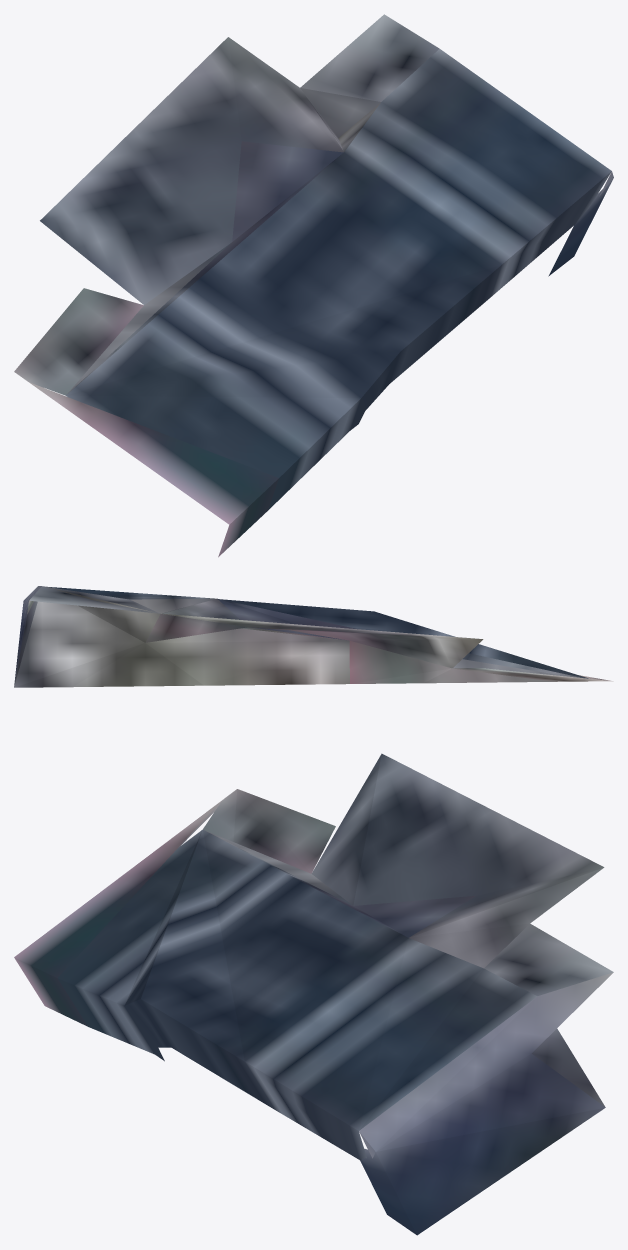
The picture shows the model from 3 angles, top to bottom: view 1: azimuth 30°, elevation 25°; view 2: azimuth 150°, elevation 25°; view 3: azimuth 270°, elevation 25°; orthographic projection. The views are drawn at different scales.
Size of the model in its own units: 26.32 by 9.94 by 19.25.
1 material, 1 textured.
